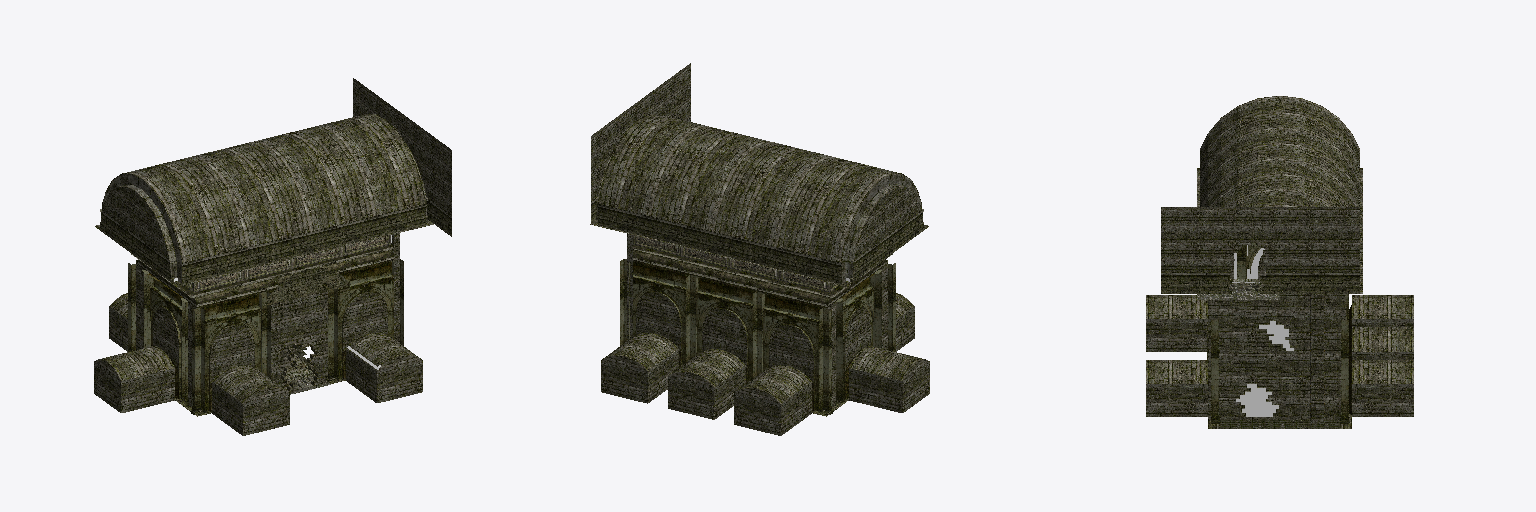
3 renders of one model, left to right at view 1: azimuth 30°, elevation 25°; view 2: azimuth 150°, elevation 25°; view 3: azimuth 270°, elevation 25°, orthographic.
Parts seen in each view (by area): view 1: mesh4, mesh3, mesh5, mesh7; view 2: mesh4, mesh5, mesh3, mesh7; view 3: mesh4, mesh3, mesh5, mesh1, mesh9, mesh6.
Part boxes in pixels (x1,y1,x2,y2): mesh4: (94, 78, 451, 435); mesh3: (100, 197, 451, 416); mesh5: (128, 259, 403, 414); mesh7: (184, 235, 390, 292); mesh4: (590, 63, 929, 435); mesh5: (620, 259, 895, 414); mesh3: (591, 197, 923, 416); mesh7: (633, 235, 839, 292); mesh4: (1146, 96, 1413, 422); mesh3: (1161, 272, 1359, 428); mesh5: (1211, 243, 1351, 423); mesh1: (1236, 321, 1293, 416); mesh9: (1220, 279, 1339, 428); mesh6: (1197, 284, 1279, 299).
Bounding box in the file's own units: 17.52 × 13.1 × 13.69.
11 materials, 8 textured.